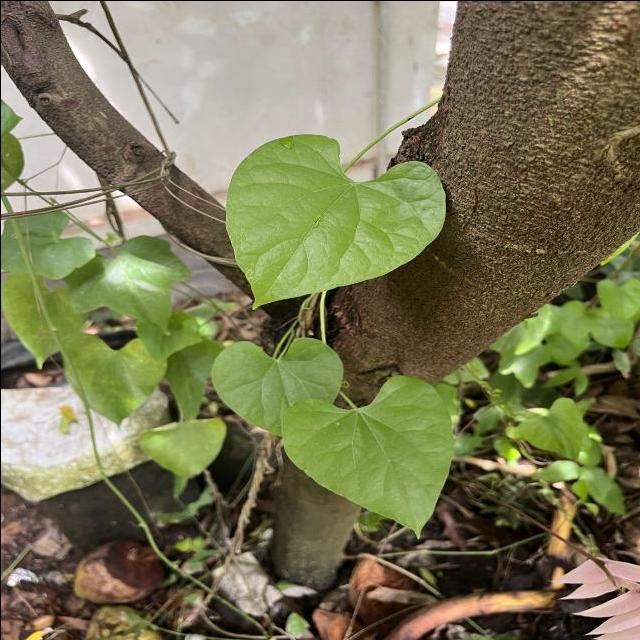Tinospora cordifolia: (220, 130, 449, 314), (276, 370, 456, 542), (207, 334, 345, 438)
